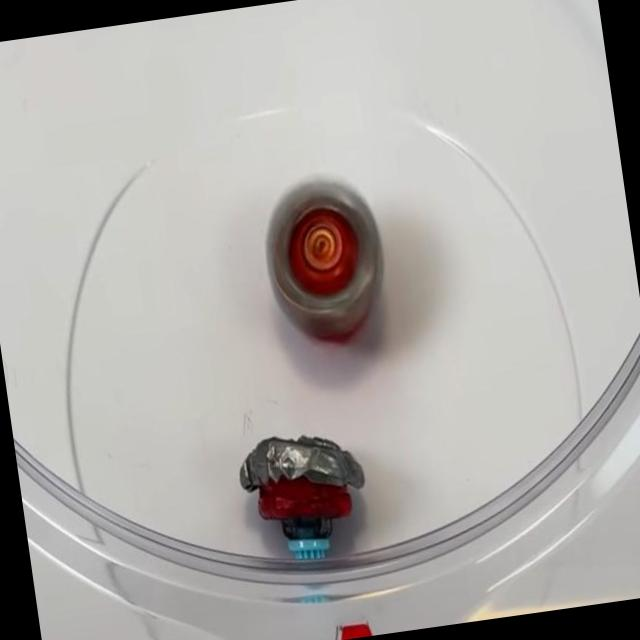Beyblade: (254, 168, 396, 355), (233, 422, 375, 568)
